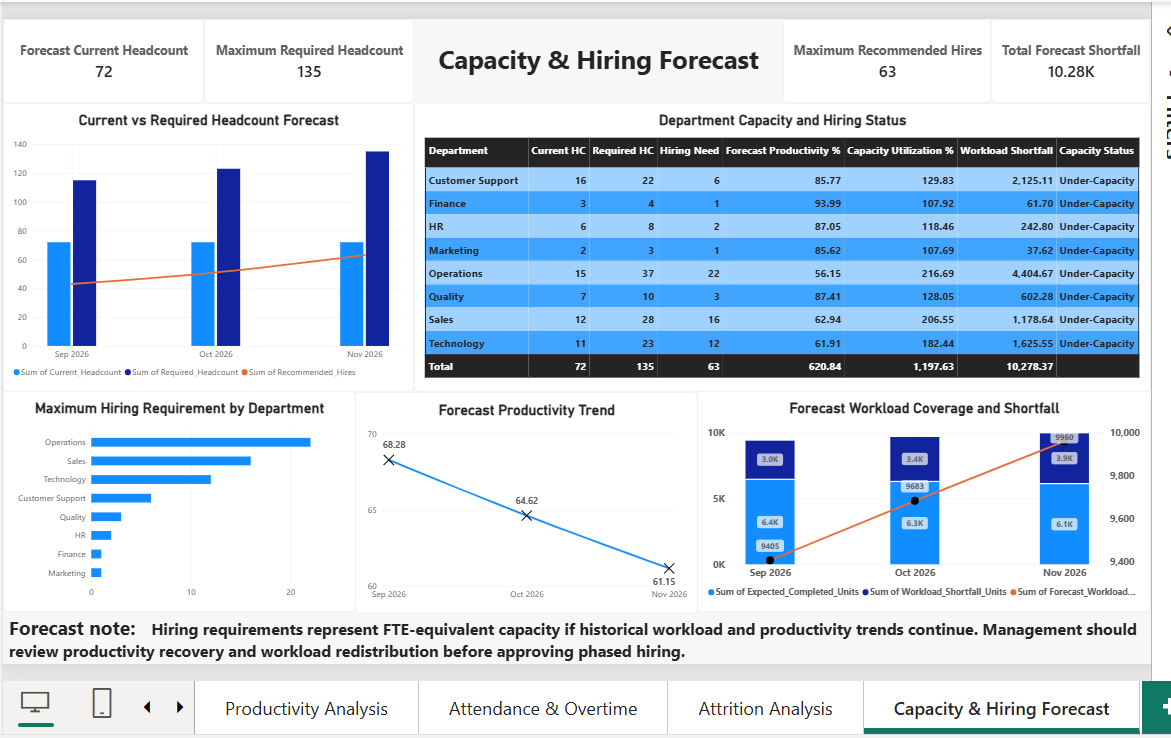

The dashboard page shown, as its layout file describes it:
{"tool":"powerbi","page":{"name":"Capacity & Hiring Forecast","canvas":[1920,1080],"ordinal":4},"visuals":[{"type":"cardVisual","fields":{"Data":["three_month_workforce_capacity_forecast.Forecast Current Headcount"]},"box":[0,0,336.2,140.5],"z":0},{"type":"cardVisual","fields":{"Data":["three_month_workforce_capacity_forecast.Maximum Required Headcount"]},"box":[336.2,0,351.2,140.5],"z":1},{"type":"cardVisual","fields":{"Data":["three_month_workforce_capacity_forecast.Maximum Recommended Hires"]},"box":[1304.5,0,348.7,140.5],"z":2},{"type":"cardVisual","fields":{"Data":["three_month_workforce_capacity_forecast.Total Forecast Shortfall"]},"box":[1653.3,0,265.9,140.5],"z":3},{"type":"textbox","box":[687.4,0,617.1,102.9],"z":4},{"type":"lineClusteredColumnComboChart","title":"Current vs Required Headcount Forecast","fields":{"Category":["three_month_workforce_capacity_forecast.Forecast_Month"],"Y":["Sum(three_month_workforce_capacity_forecast.Current_Headcount)","Sum(three_month_workforce_capacity_forecast.Required_Headcount)"],"Y2":["Sum(three_month_workforce_capacity_forecast.Recommended_Hires)"]},"box":[0,140.5,687.4,481.7],"z":5},{"type":"clusteredBarChart","title":"Maximum Hiring Requirement by Department","fields":{"Category":["department_hiring_requirement.Department"],"Y":["Sum(department_hiring_requirement.Maximum_Recommended_Hires)"]},"box":[0,622.2,589.6,368.8],"z":6},{"type":"tableEx","title":"Department Capacity and Hiring Status","fields":{"Values":["department_hiring_requirement.Department","Sum(department_hiring_requirement.Current_Headcount)","Sum(department_hiring_requirement.Maximum_Required_Headcount)","Sum(department_hiring_requirement.Maximum_Recommended_Hires)","Sum(department_hiring_requirement.Average_Forecast_Productivity)","Sum(department_hiring_requirement.Average_Forecast_Capacity_Utilization)","Sum(department_hiring_requirement.Total_Workload_Shortfall)","department_hiring_requirement.Department_Capacity_Status"]},"box":[687.4,140.5,1231.8,481.7],"z":7},{"type":"lineChart","title":"Forecast Productivity Trend","fields":{"Category":["monthly_hiring_requirement.Forecast_Month"],"Y":["Sum(monthly_hiring_requirement.Overall_Forecast_Productivity_Percentage)"]},"box":[589.6,624.7,572,368.8],"z":8},{"type":"lineStackedColumnComboChart","title":"Forecast Workload Coverage and Shortfall","fields":{"Category":["monthly_hiring_requirement.Forecast_Month"],"Y":["Sum(monthly_hiring_requirement.Expected_Completed_Units)","Sum(monthly_hiring_requirement.Workload_Shortfall_Units)"],"Y2":["Sum(monthly_hiring_requirement.Forecast_Workload_Units)"]},"box":[1161.5,622.2,757.6,368.8],"z":9},{"type":"textbox","box":[0,990.9,1919.2,90.3],"z":10}]}

Visuals, with their boxes on the page's 1920x1080 design canvas (x1, y1, x2, y2). These are canvas units, not pixel positions in the 1171x738 screenshot, which may show the page scaled, cropped or inside an application window:
cardVisual - three_month_workforce_capacity_forecast.Forecast Current Headcount: select_region(0, 0, 336, 140)
cardVisual - three_month_workforce_capacity_forecast.Maximum Required Headcount: select_region(336, 0, 687, 140)
cardVisual - three_month_workforce_capacity_forecast.Maximum Recommended Hires: select_region(1304, 0, 1653, 140)
cardVisual - three_month_workforce_capacity_forecast.Total Forecast Shortfall: select_region(1653, 0, 1919, 140)
textbox: select_region(687, 0, 1304, 103)
"Current vs Required Headcount Forecast" lineClusteredColumnComboChart: select_region(0, 140, 687, 622)
"Maximum Hiring Requirement by Department" clusteredBarChart: select_region(0, 622, 590, 991)
"Department Capacity and Hiring Status" tableEx: select_region(687, 140, 1919, 622)
"Forecast Productivity Trend" lineChart: select_region(590, 625, 1162, 994)
"Forecast Workload Coverage and Shortfall" lineStackedColumnComboChart: select_region(1162, 622, 1919, 991)
textbox: select_region(0, 991, 1919, 1081)
